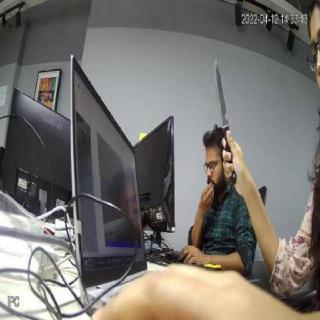knife: (214, 53, 234, 136)
